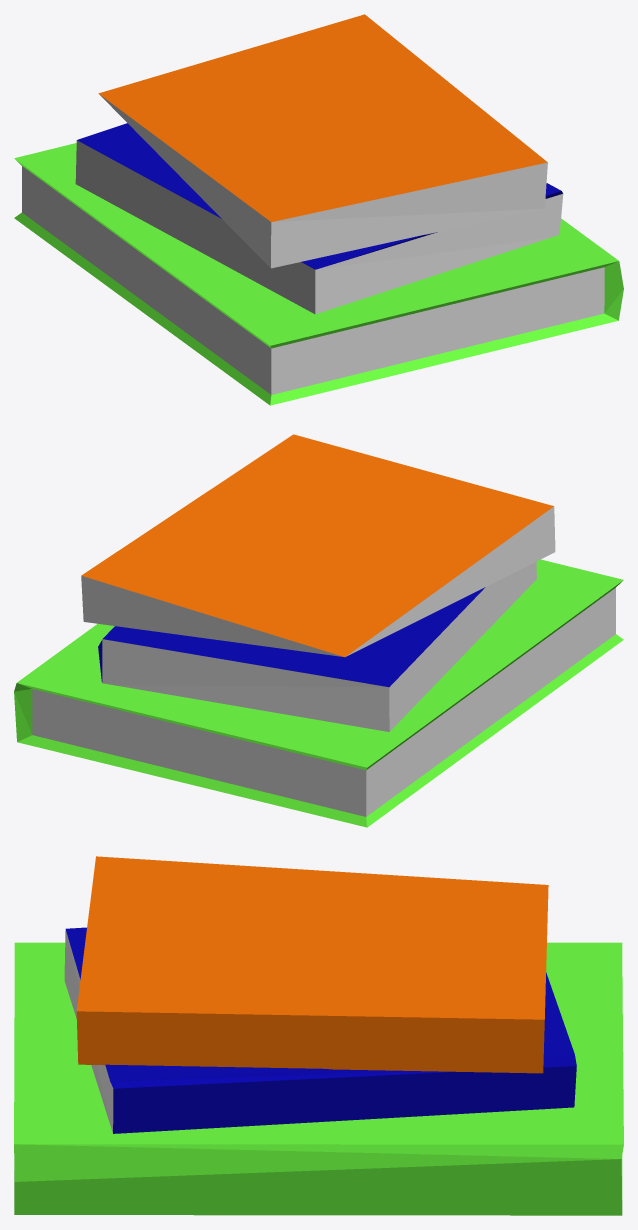
File: CUADERNOJORREGIDA.fbx
3 renders of one model, top to bottom at view 1: azimuth 30°, elevation 25°; view 2: azimuth 150°, elevation 25°; view 3: azimuth 270°, elevation 25°, orthographic. The views are drawn at different scales.
Parts seen in each view (by area): view 1: Cubo.013, Cubo.019, Cubo.018; view 2: Cubo.013, Cubo.019, Cubo.018; view 3: Cubo.013, Cubo.019, Cubo.018.
Boxes of the visible parts, x1,y1,x2,y2 form: Cubo.013: (98, 14, 547, 268); Cubo.019: (14, 143, 623, 405); Cubo.018: (75, 123, 563, 314); Cubo.013: (81, 434, 555, 657); Cubo.019: (14, 559, 623, 827); Cubo.018: (98, 561, 536, 731); Cubo.013: (76, 856, 548, 1073); Cubo.019: (14, 942, 623, 1215); Cubo.018: (64, 927, 576, 1133).
Size of the model in its own units: 108 by 43.73 by 136.
